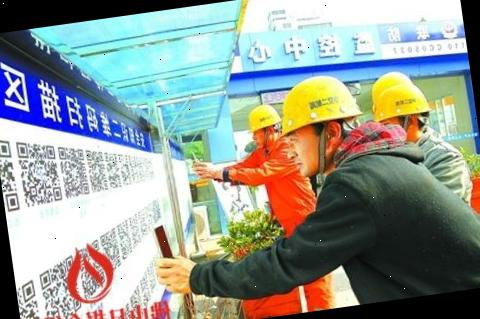helmet: (272, 72, 364, 138), (366, 78, 436, 123), (365, 68, 416, 108), (241, 100, 283, 132)
no_wear: (321, 149, 467, 306)
wear: (255, 138, 304, 225)
